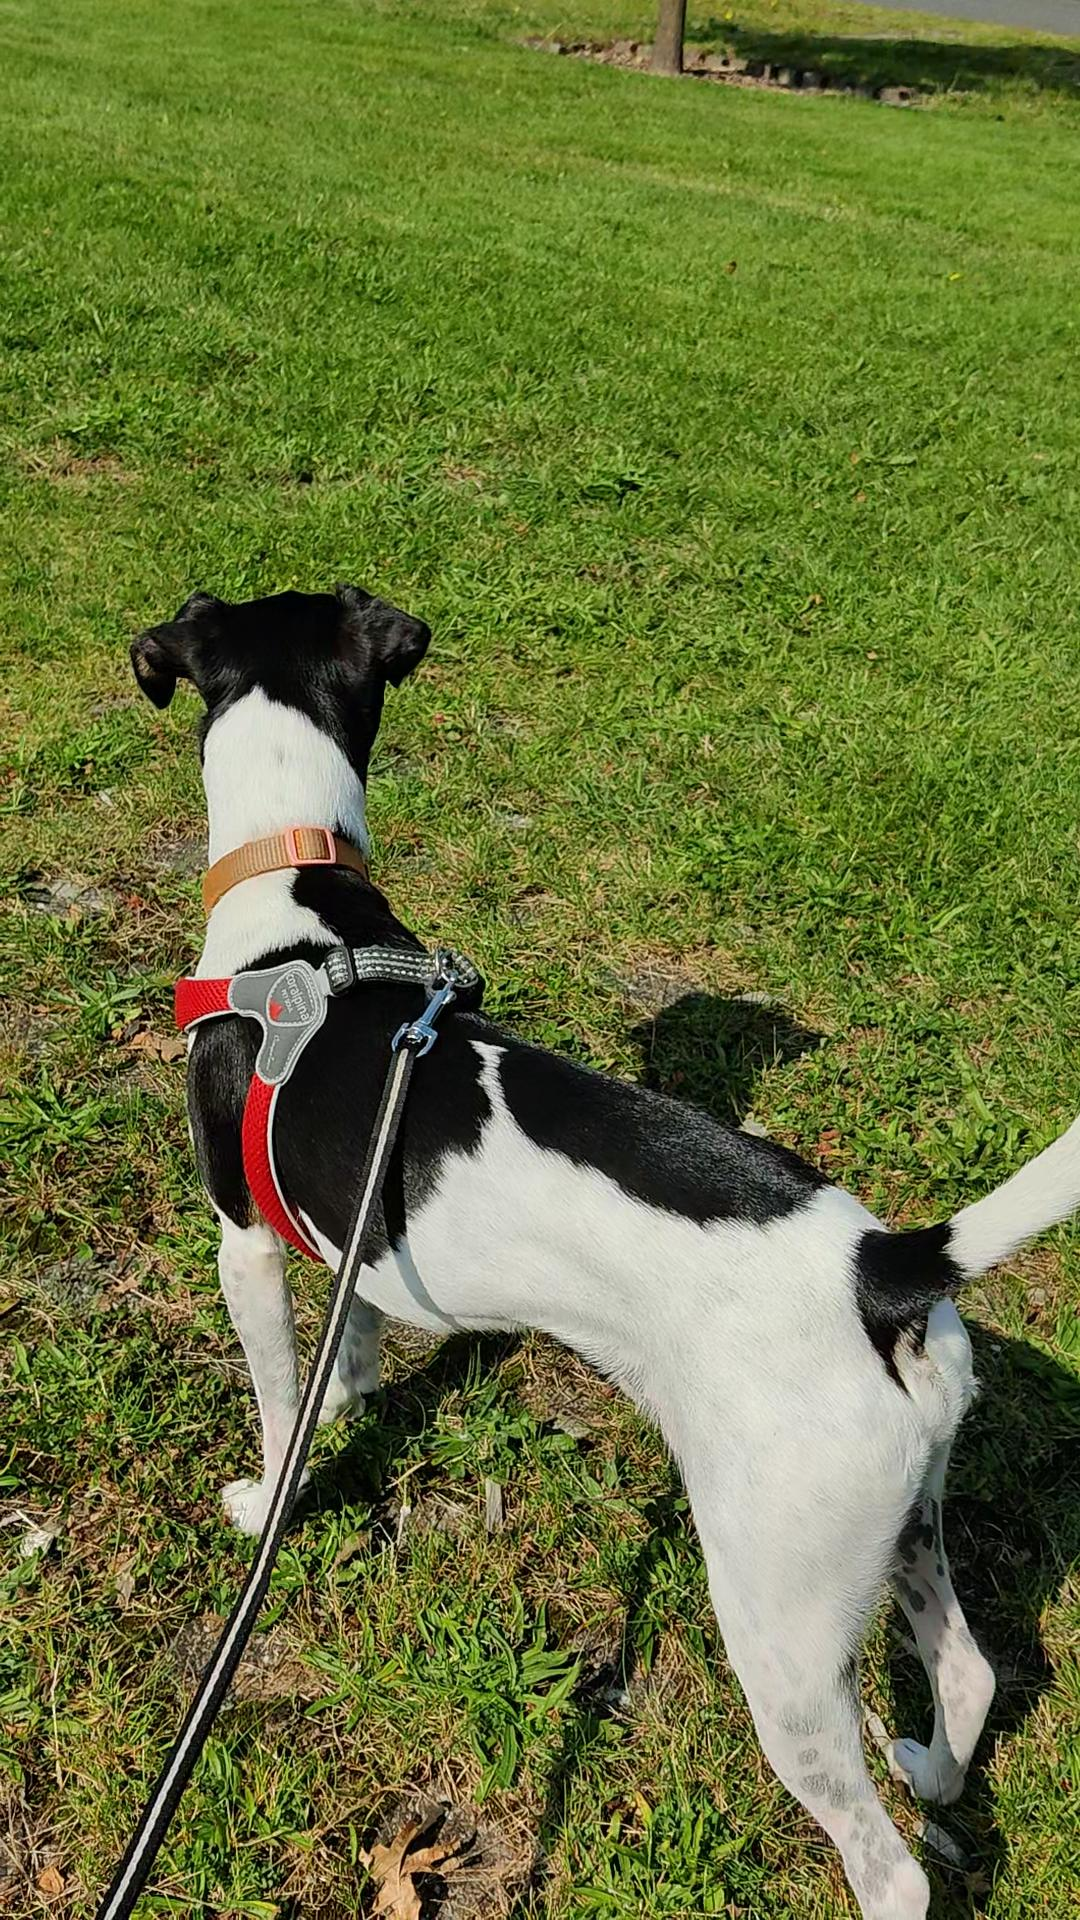Dog: (117, 575, 1079, 1919)
